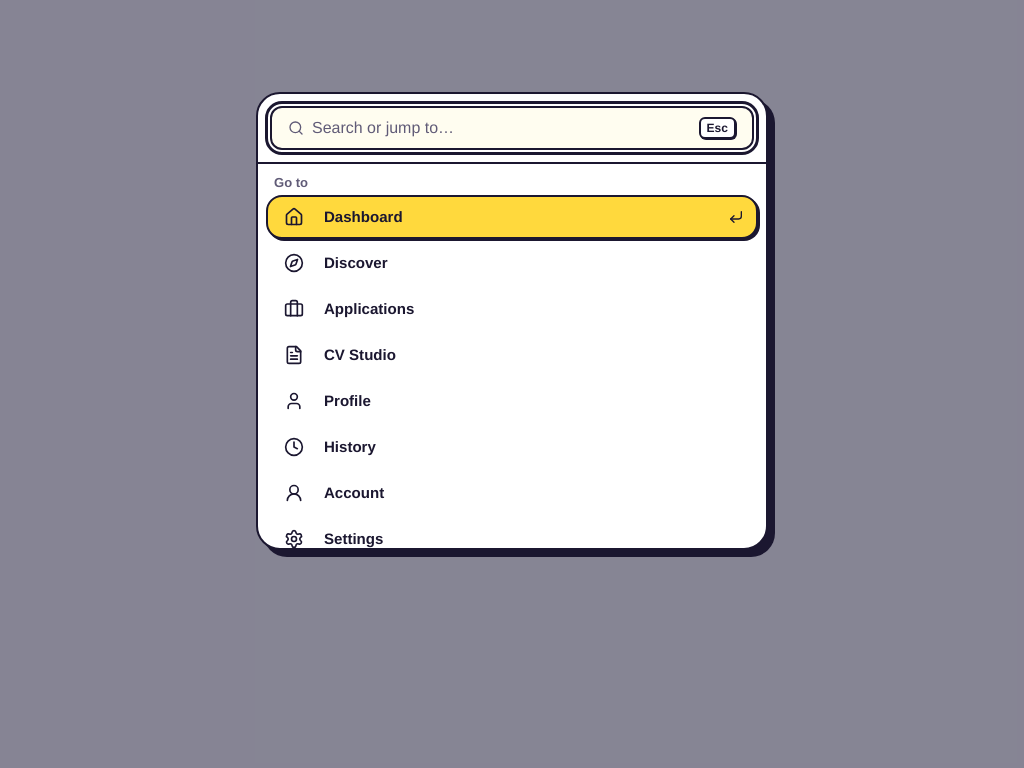
CommandPalette › says so when nothing matches, without an empty listbox
Type "zzzqqq" into the dropdown labelled "Search" at (501, 128), box 312,108 -> 691,148
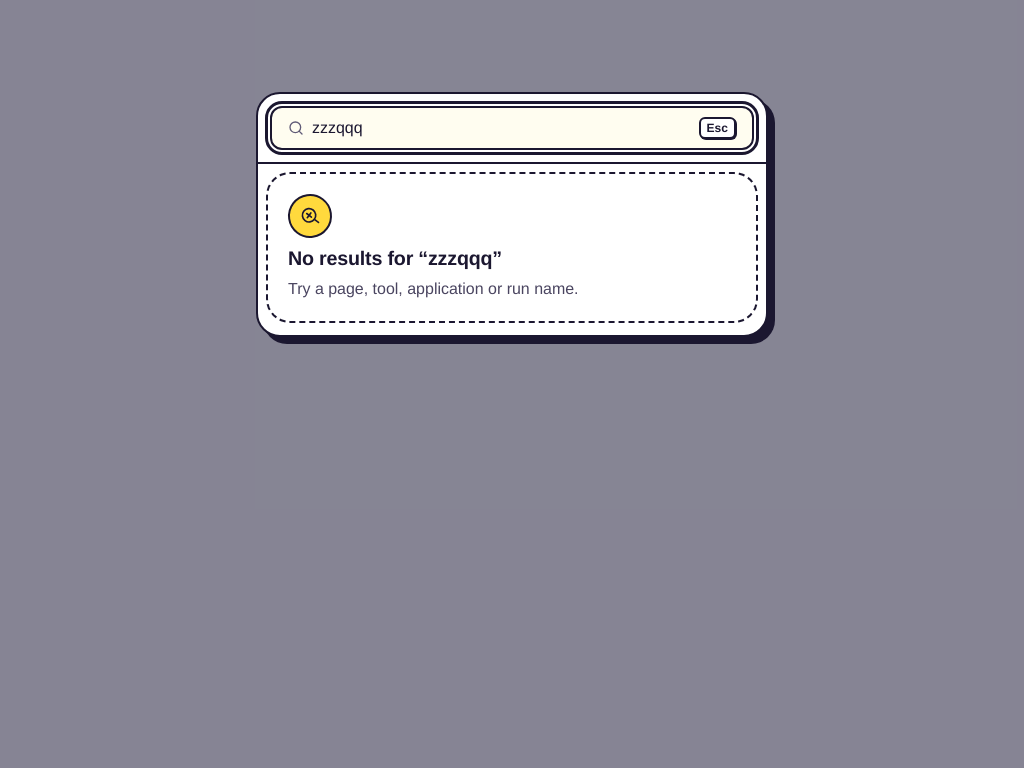
Check: the message shows "No results for “zzzqqq”", box 288,246 -> 502,270
